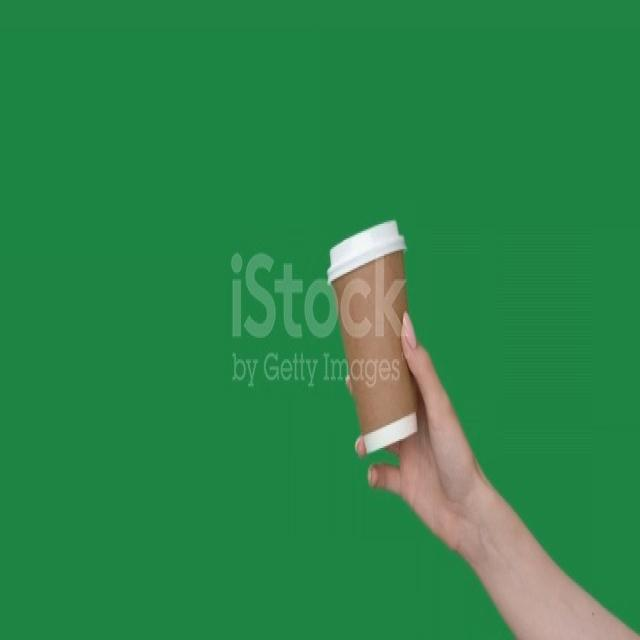cup: (326, 219, 419, 455)
